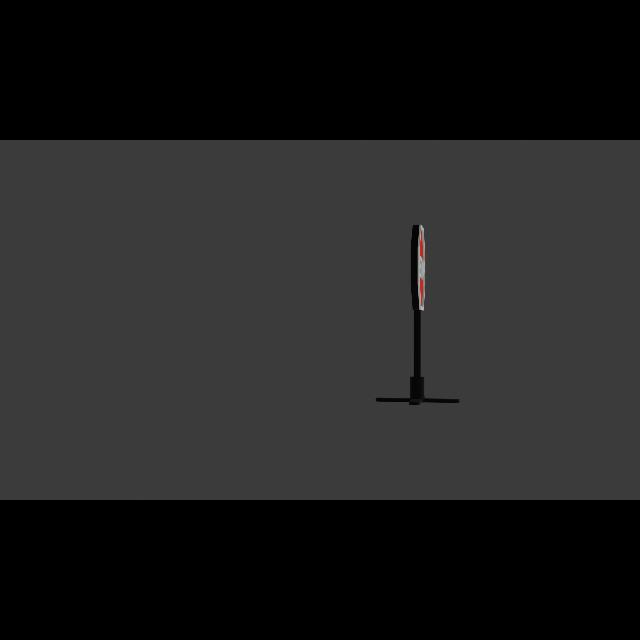sign_stop: (411, 225, 428, 311)
